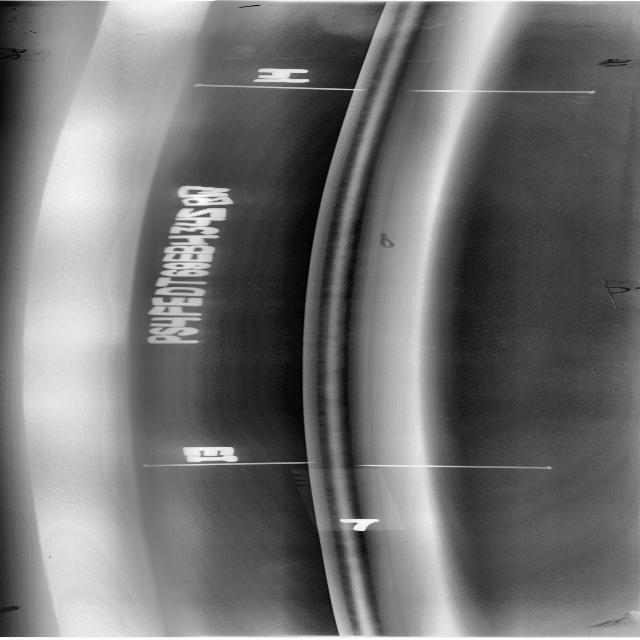porosity: (323, 237, 345, 241)
